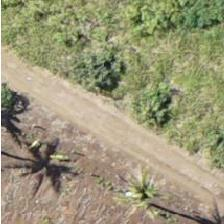Kelapa_Sawit: (97, 153, 187, 224)
